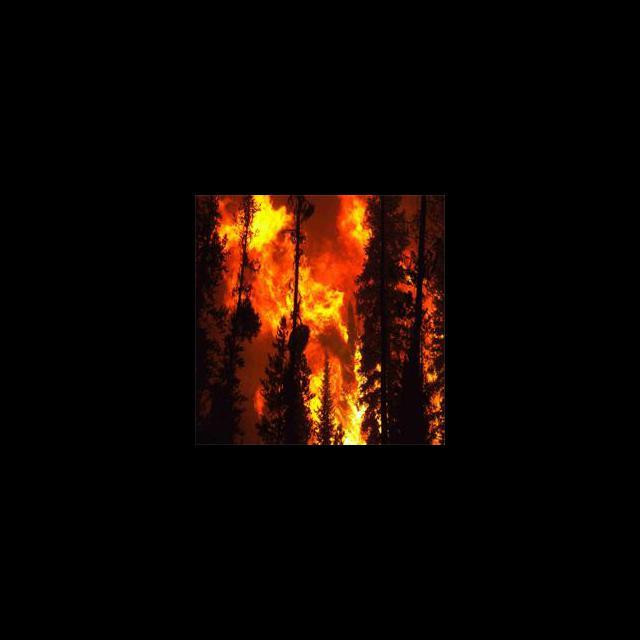Fire: (300, 200, 374, 445), (250, 202, 292, 328), (389, 245, 417, 359), (423, 286, 443, 444), (220, 198, 242, 310)
